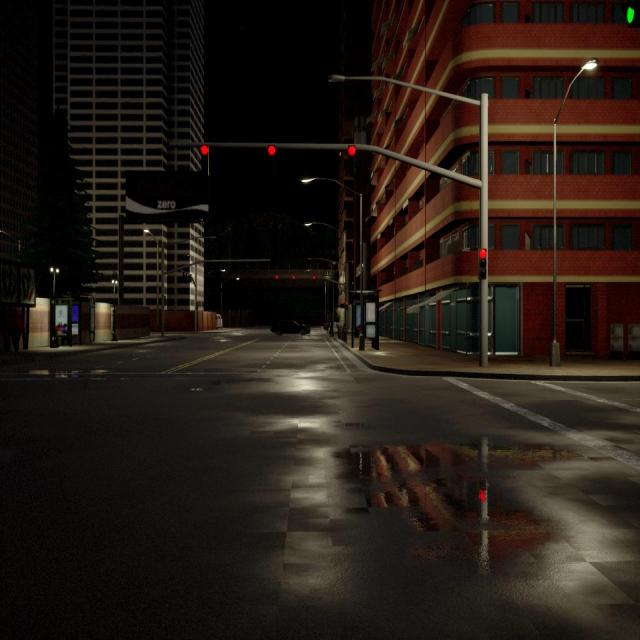Vehicle: (270, 319, 311, 337), (216, 314, 224, 331)
traffic_light: (625, 0, 640, 25), (200, 144, 210, 176), (478, 248, 487, 279), (267, 144, 277, 171), (348, 145, 356, 174), (345, 301, 348, 310), (312, 275, 316, 280), (276, 275, 278, 279), (293, 275, 295, 279)
